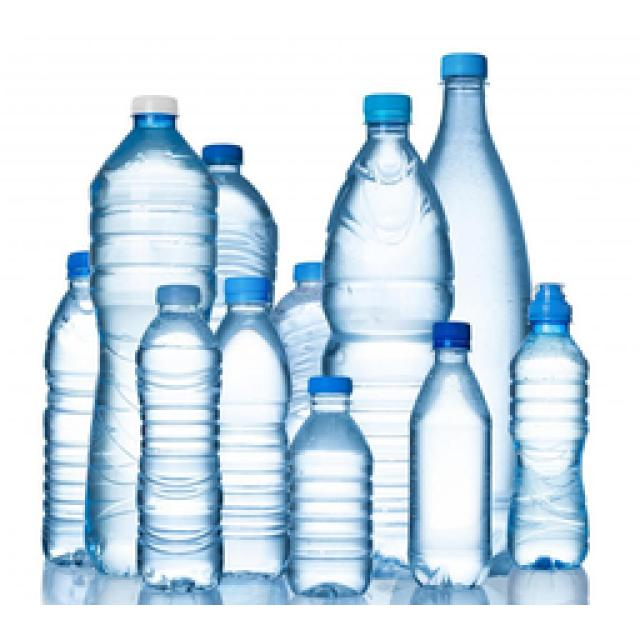plastic_water_bottles: (140, 282, 222, 590), (428, 47, 537, 278), (133, 276, 210, 586), (407, 312, 495, 580), (505, 278, 583, 575), (328, 90, 430, 313), (27, 238, 93, 575), (292, 372, 380, 603), (220, 270, 283, 578), (83, 86, 190, 242)
